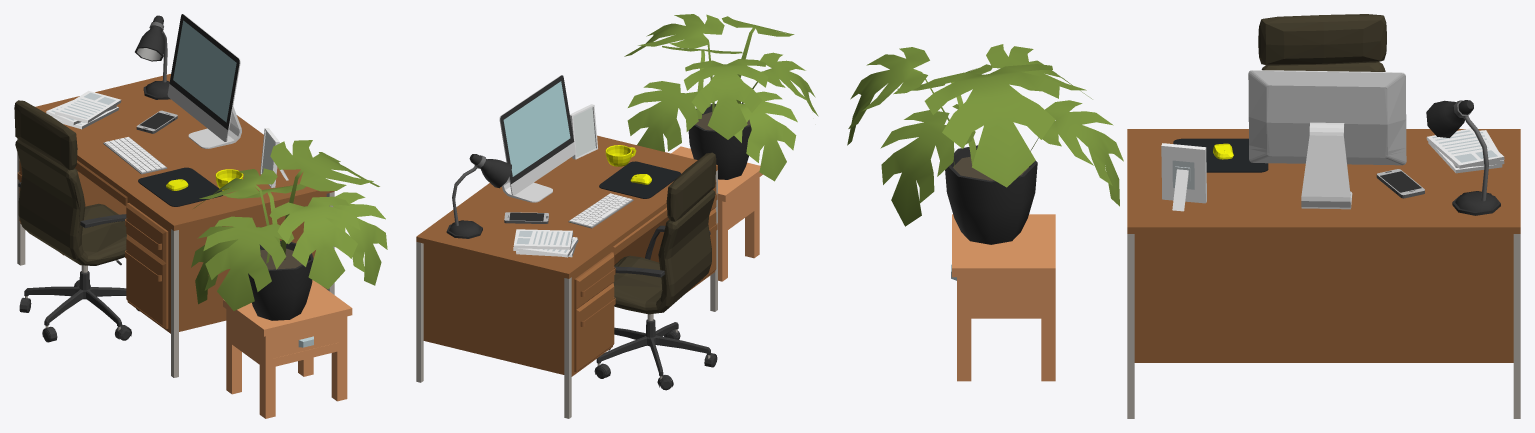
Rendered from Desk-ISpMh81QGq.glb.
The picture shows the model from 3 angles, left to right: view 1: azimuth 30°, elevation 25°; view 2: azimuth 150°, elevation 25°; view 3: azimuth 270°, elevation 25°; orthographic projection. The views are drawn at different scales.
Parts seen in each view (by area): view 1: Node.003, Houseplant-bfLOqIV5uP, Chair.003, Cabinet Bed Drawer Tabl, Monitor.001|iMac|Dupli|, Mousepad, Paper, Light Desk.001, Blank Picture Frame|Node.007|Dupli|, Phone, Cup.001|Cup|Dupli|; view 2: Node.003, Houseplant-bfLOqIV5uP, Chair.003, Monitor.001|iMac|Dupli|, Cabinet Bed Drawer Tabl, Mousepad, Light Desk.001, Paper, Blank Picture Frame|Node.007|Dupli|, Cup.001|Cup|Dupli|, Phone; view 3: Node.003, Houseplant-bfLOqIV5uP, Monitor.001|iMac|Dupli|, Cabinet Bed Drawer Tabl, Chair.003, Blank Picture Frame|Node.007|Dupli|, Light Desk.001, Paper, Mousepad, Phone.
Boxes of the visible parts, left/top/right/bottom form: Node.003: left=17, top=74, right=334, bottom=377; Houseplant-bfLOqIV5uP: left=191, top=140, right=387, bottom=320; Chair.003: left=14, top=100, right=139, bottom=342; Cabinet Bed Drawer Tabl: left=223, top=280, right=352, bottom=418; Monitor.001|iMac|Dupli|: left=167, top=14, right=241, bottom=148; Mousepad: left=138, top=167, right=222, bottom=206; Paper: left=46, top=90, right=121, bottom=129; Light Desk.001: left=135, top=15, right=170, bottom=99; Blank Picture Frame|Node.007|Dupli|: left=260, top=128, right=288, bottom=187; Phone: left=136, top=110, right=177, bottom=133; Cup.001|Cup|Dupli|: left=215, top=169, right=243, bottom=190; Node.003: left=416, top=135, right=717, bottom=418; Houseplant-bfLOqIV5uP: left=624, top=14, right=818, bottom=181; Chair.003: left=594, top=152, right=717, bottom=390; Monitor.001|iMac|Dupli|: left=499, top=75, right=575, bottom=202; Cabinet Bed Drawer Tabl: left=671, top=146, right=762, bottom=281; Mousepad: left=599, top=161, right=681, bottom=198; Light Desk.001: left=446, top=154, right=511, bottom=238; Paper: left=513, top=229, right=578, bottom=257; Blank Picture Frame|Node.007|Dupli|: left=570, top=104, right=597, bottom=159; Cup.001|Cup|Dupli|: left=605, top=145, right=636, bottom=166; Phone: left=504, top=212, right=548, bottom=223; Node.003: left=1127, top=129, right=1520, bottom=418; Houseplant-bfLOqIV5uP: left=847, top=44, right=1123, bottom=244; Monitor.001|iMac|Dupli|: left=1248, top=70, right=1406, bottom=209; Cabinet Bed Drawer Tabl: left=951, top=214, right=1055, bottom=381; Chair.003: left=1258, top=14, right=1386, bottom=71; Blank Picture Frame|Node.007|Dupli|: left=1161, top=143, right=1206, bottom=211; Light Desk.001: left=1426, top=100, right=1500, bottom=215; Paper: left=1426, top=128, right=1504, bottom=173; Mousepad: left=1173, top=138, right=1268, bottom=172; Phone: left=1376, top=169, right=1424, bottom=198.
Size of the model in its own units: 1.43 by 1.56 by 2.97.
32 materials, 3 textured.
